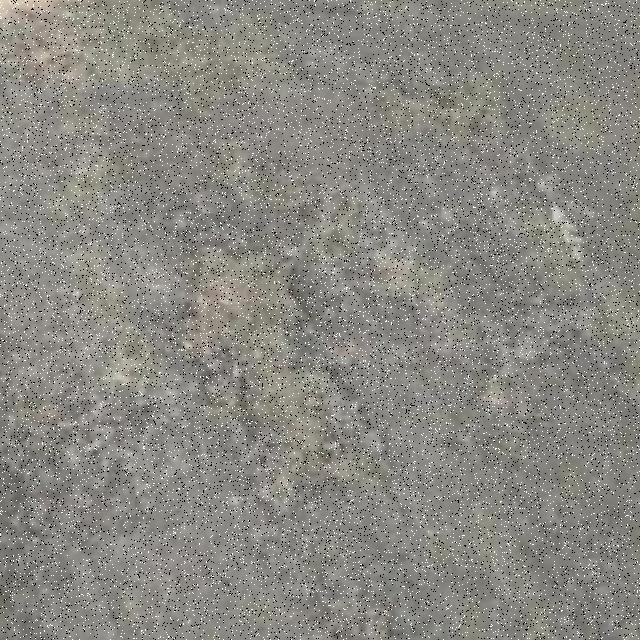pothole: (193, 253, 388, 506)
